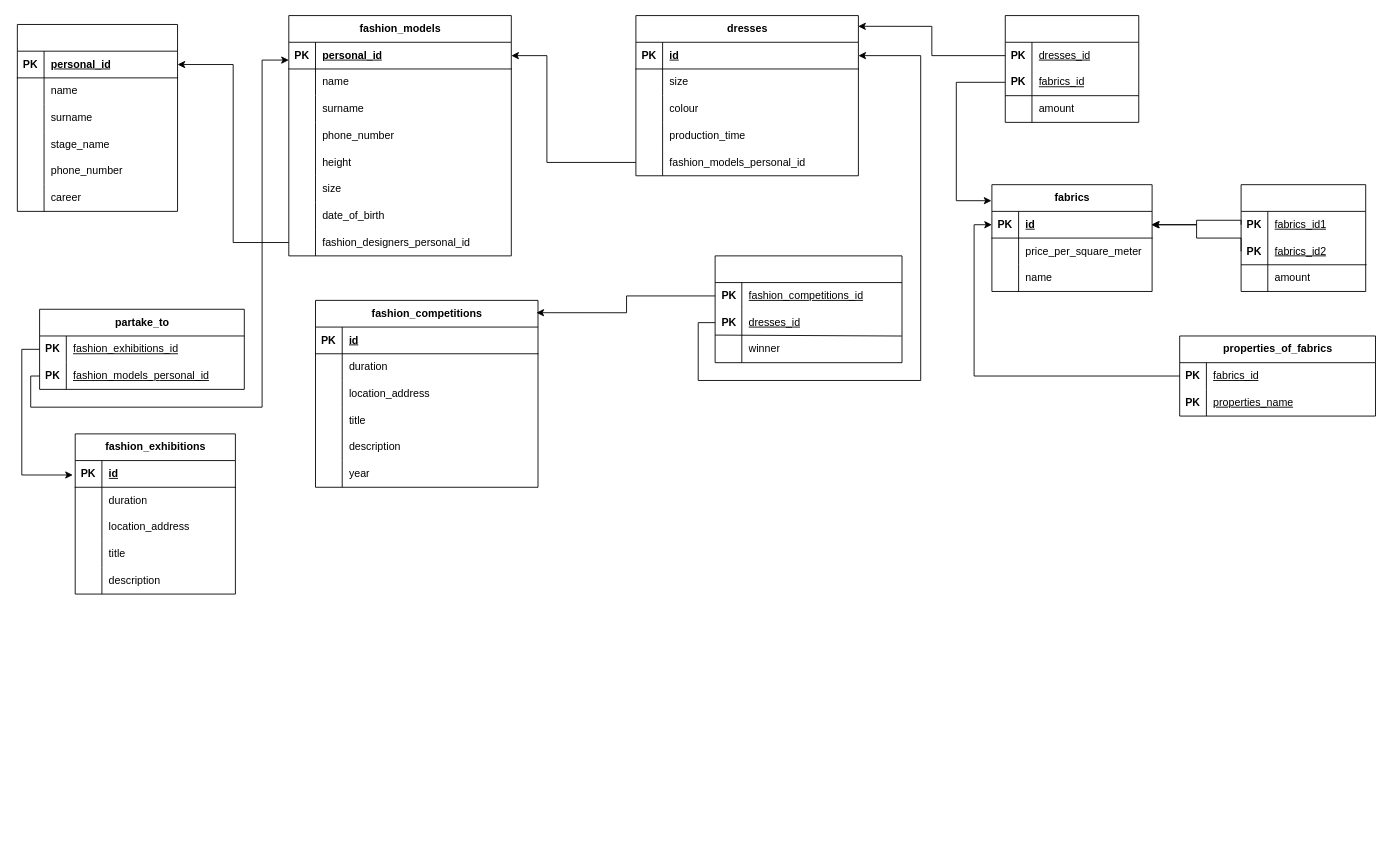
The diagram is 1391 pixels wide and 850 high, and some of its shapes have lost their labels. Each missing label, with the box of its shape:
composed_of: (1004, 15, 1139, 122)
fashion_designers: (16, 24, 178, 211)
made_of: (1240, 184, 1366, 291)
shown_in: (714, 255, 902, 363)
